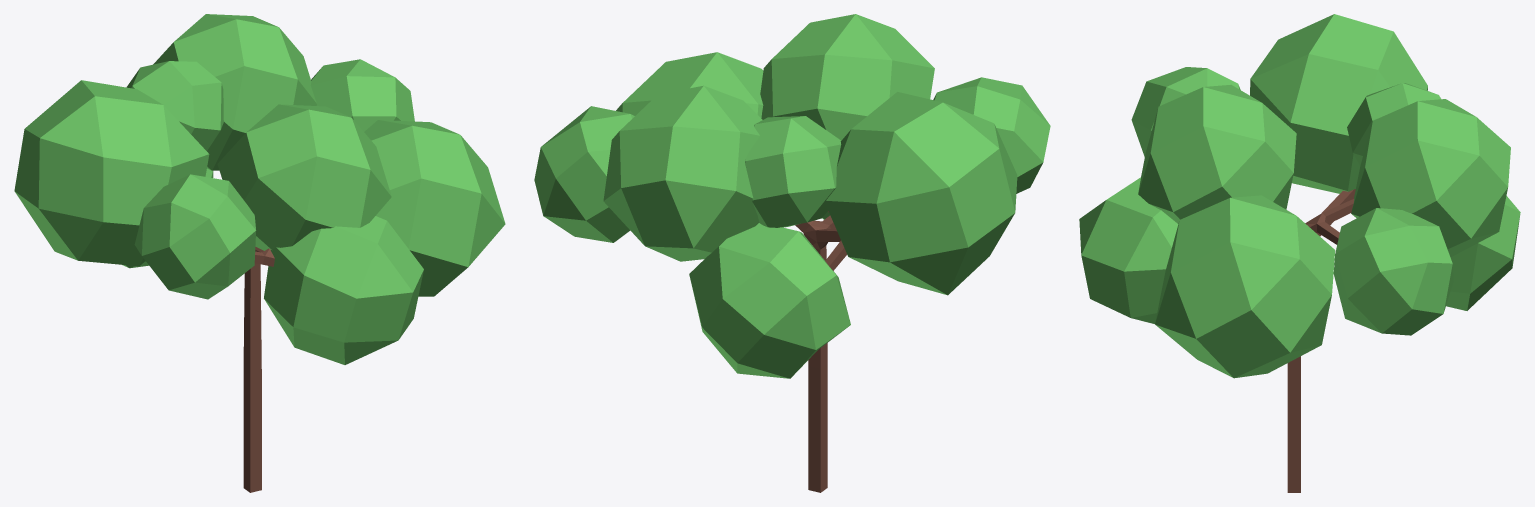
Rendered from Tree1.fbx.
3 renders of one model, left to right at view 1: azimuth 30°, elevation 25°; view 2: azimuth 150°, elevation 25°; view 3: azimuth 270°, elevation 25°, orthographic. The views are drawn at different scales.
Visible parts, largest first — view 1: leafs, tree; view 2: leafs, tree; view 3: leafs, tree.
Boxes of the visible parts, bbox=[...] form: leafs: bbox=[14, 14, 505, 364]; tree: bbox=[243, 246, 274, 492]; leafs: bbox=[534, 14, 1050, 378]; tree: bbox=[795, 211, 846, 492]; leafs: bbox=[1079, 14, 1520, 378]; tree: bbox=[1287, 189, 1355, 492].
Bounding box in the file's own units: 17.79 × 16.53 × 17.
